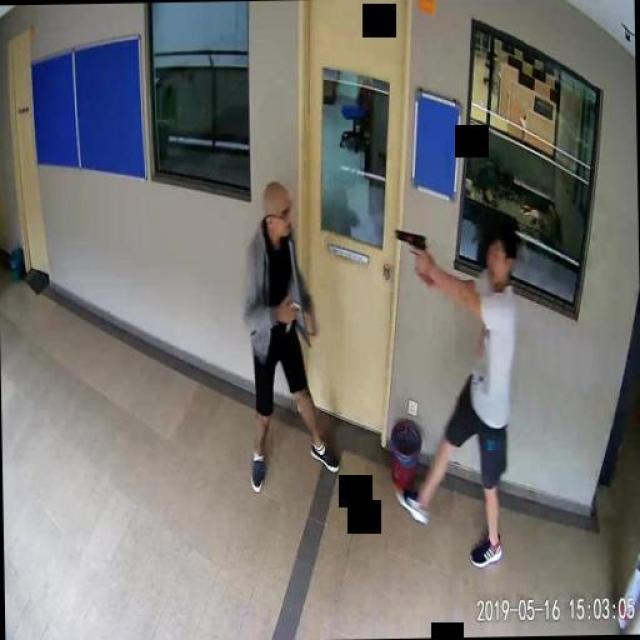gun: (394, 226, 426, 276)
